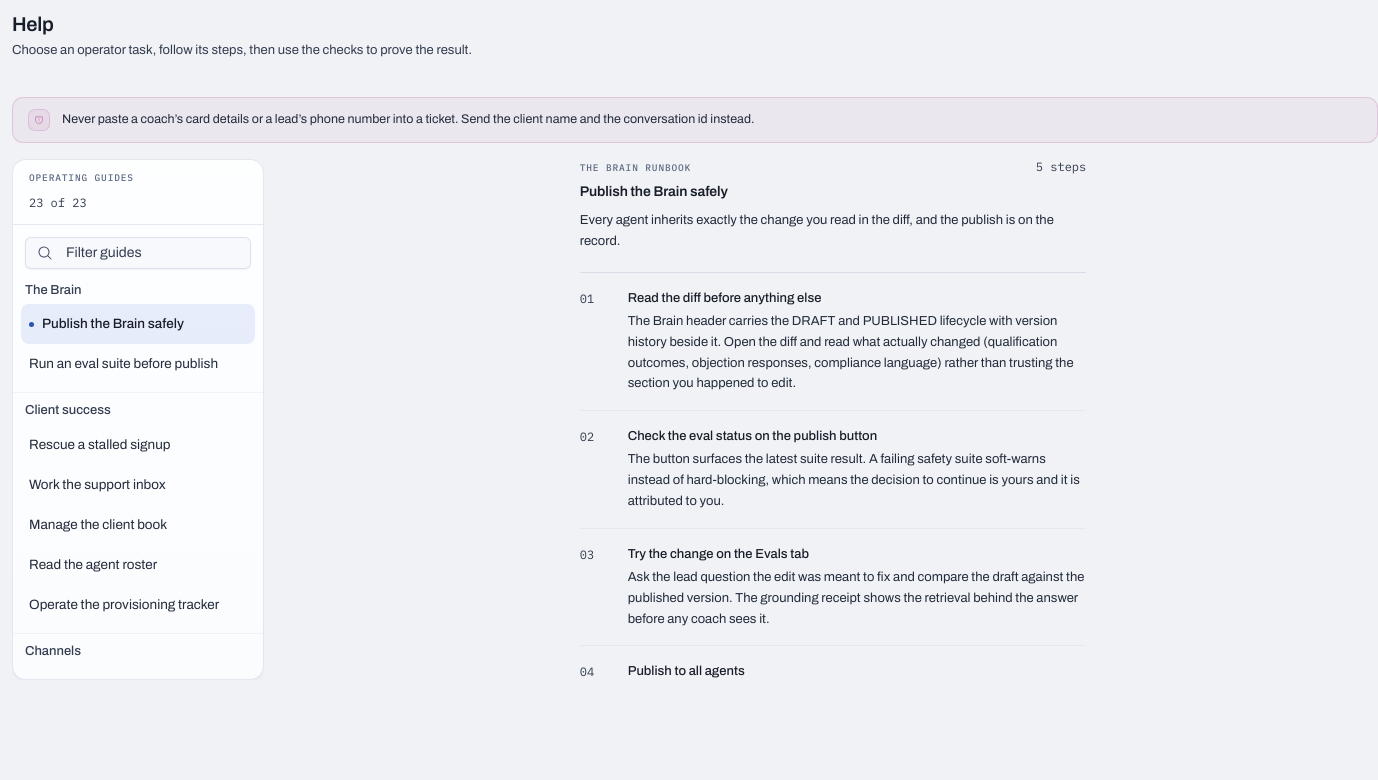
Test: AdminHelp › teaches recovery when no runbook matches
In the search field named "Search operating guides": (138, 253) left=25, top=237, right=251, bottom=269, type "no matching task"
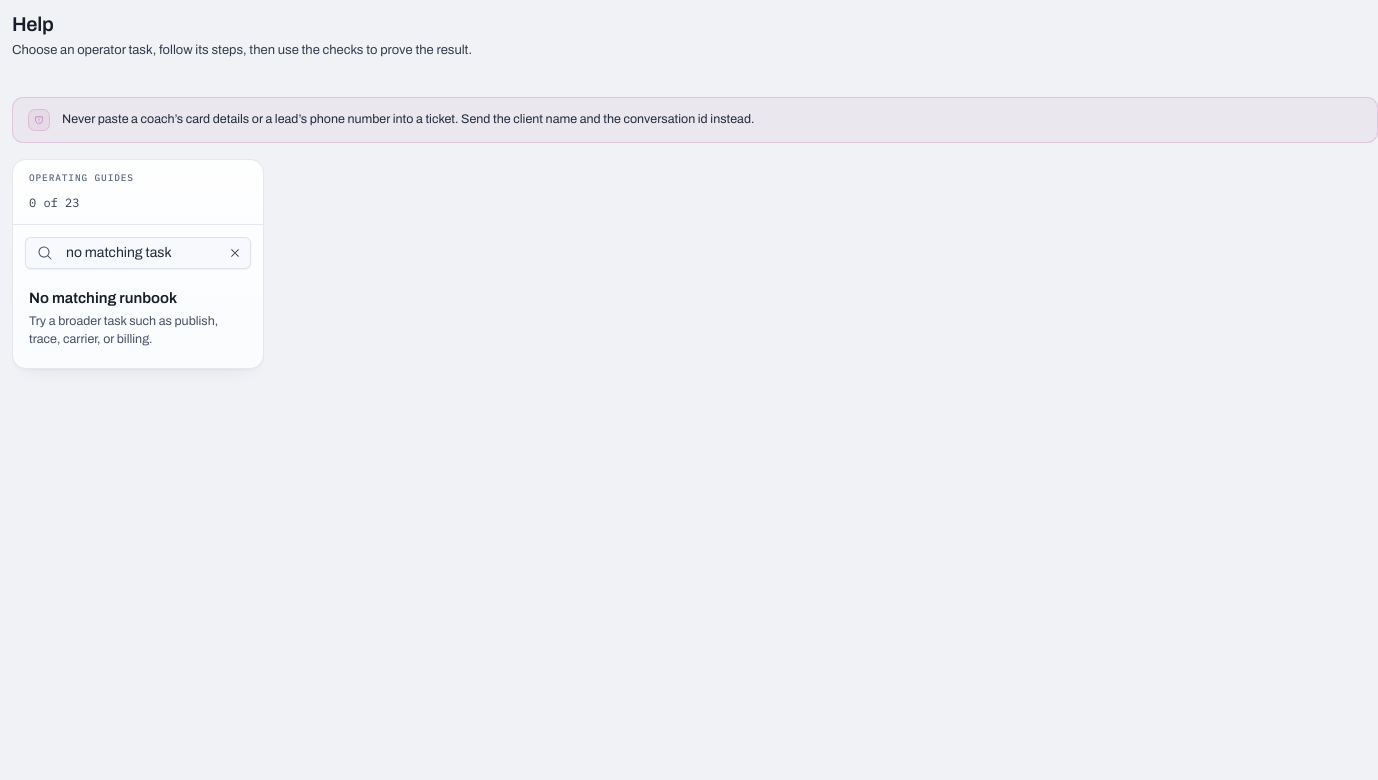
Expected: the heading "No matching runbook" is shown, left=29, top=290, right=177, bottom=306
